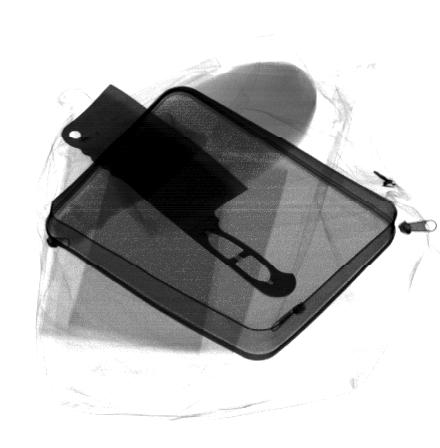Knife: (58, 82, 298, 300)
